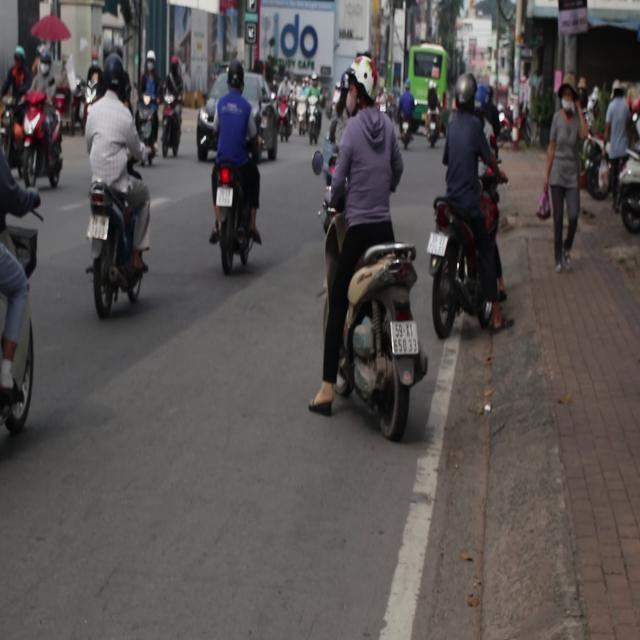bus: (406, 42, 450, 114)
car: (252, 77, 280, 165), (198, 98, 216, 162)
motorbike: (316, 233, 420, 446), (422, 188, 517, 339), (0, 233, 54, 469), (82, 188, 147, 331), (198, 144, 260, 276), (24, 91, 66, 191), (2, 73, 24, 167), (581, 134, 610, 200), (138, 79, 162, 150), (163, 98, 187, 162), (279, 92, 293, 144), (82, 73, 97, 121), (306, 100, 320, 146), (424, 121, 442, 150), (399, 120, 415, 148), (294, 101, 304, 145)
